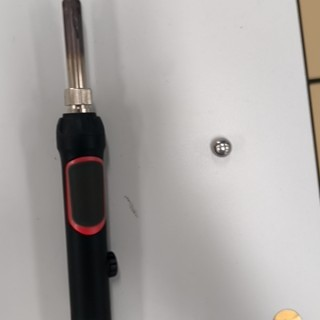ironball: (206, 126, 240, 166)
